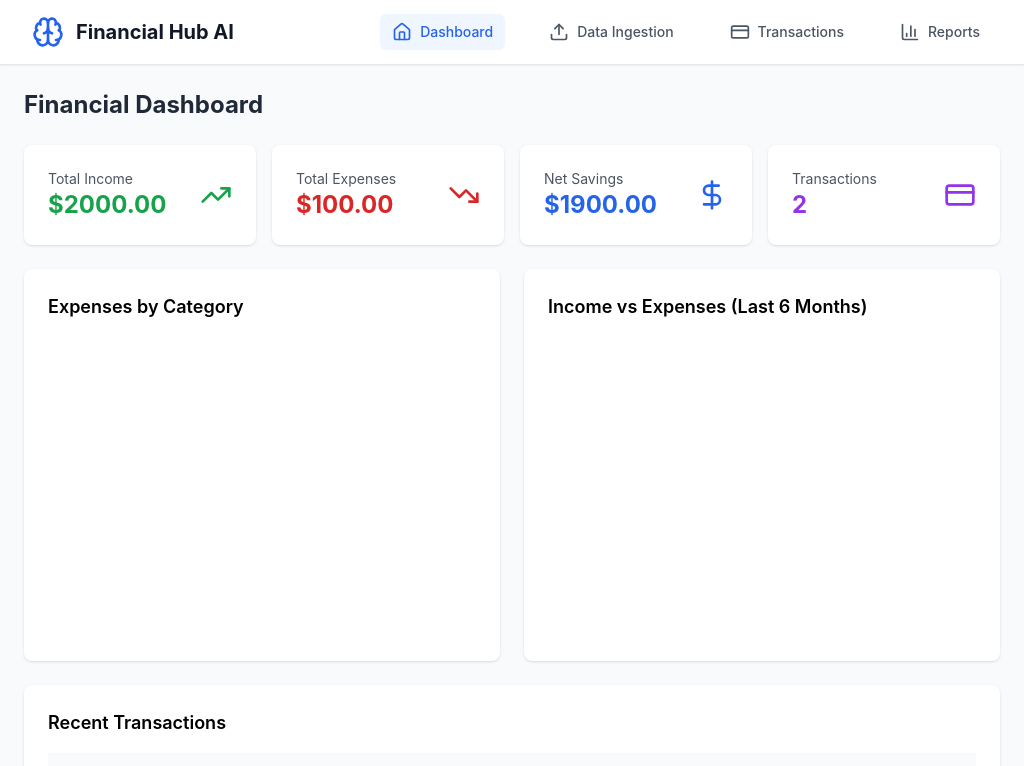
Scenario: App Integration Tests › navigates between tabs
Expected: the heading "Financial Dashboard" is shown, 24,90 -> 263,119
Note: Navigate to Transactions (use role to be more specific)
Click the button "Transactions". click: [787, 32]
box: 718,14 -> 856,50
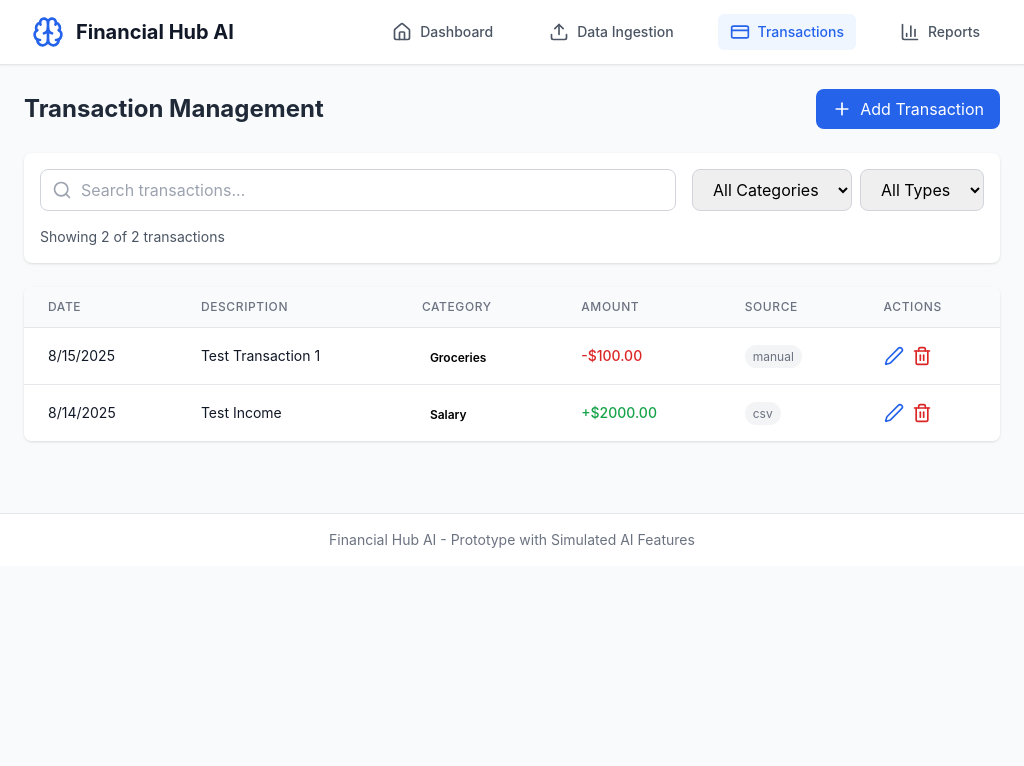
Expected: the heading "Transaction Management" is shown, 24,93 -> 324,125
Note: Navigate to Reports
Click the button "Reports". click: [940, 32]
box: 888,14 -> 992,50
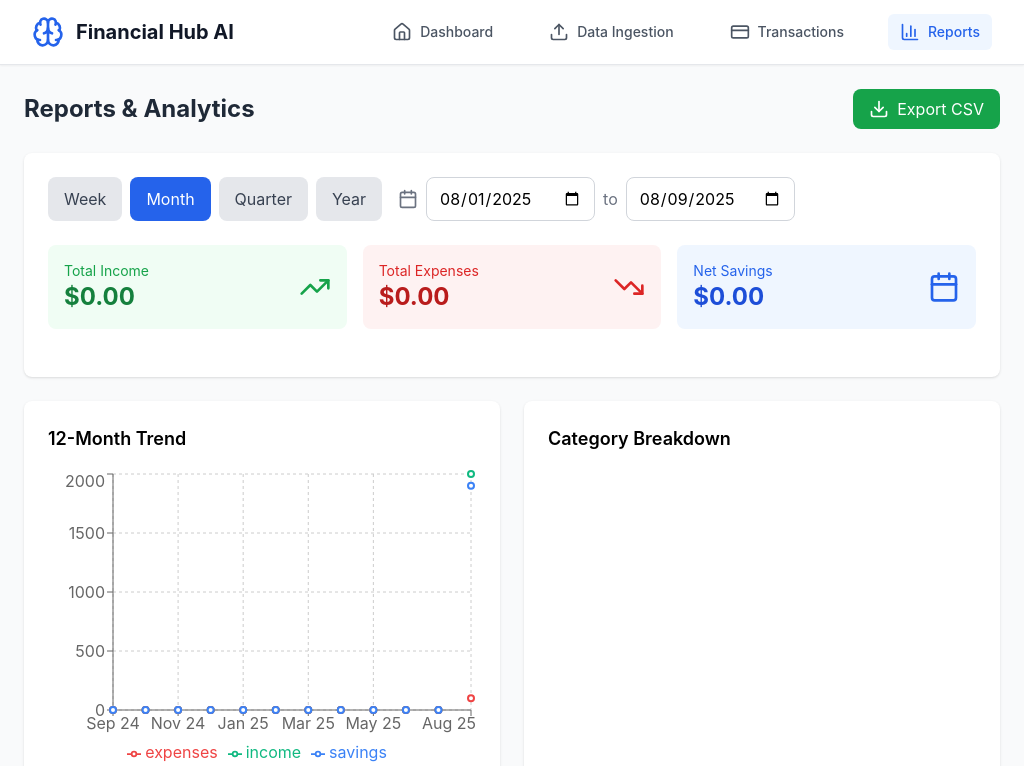
Expected: the heading "Reports & Analytics" is shown, 24,93 -> 255,125
Note: Navigate to Data Ingestion
Click the button "Data Ingestion". click: [611, 32]
box: 537,14 -> 686,50
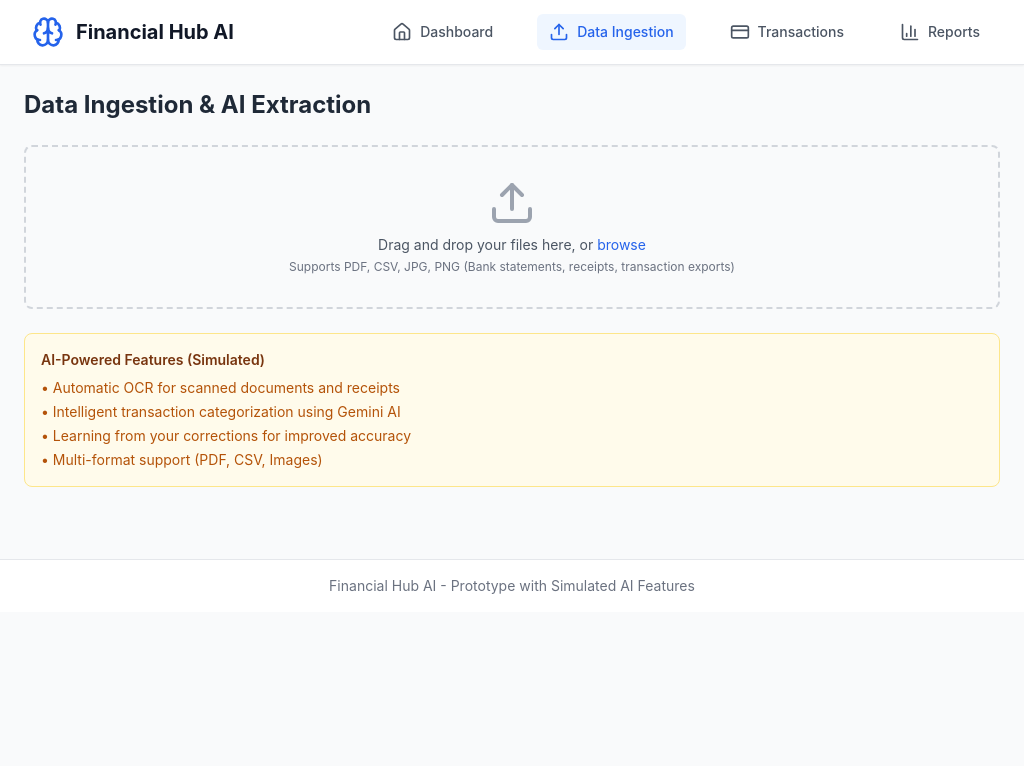
Expected: the heading "Data Ingestion & AI Extraction" is shown, 24,90 -> 371,119
